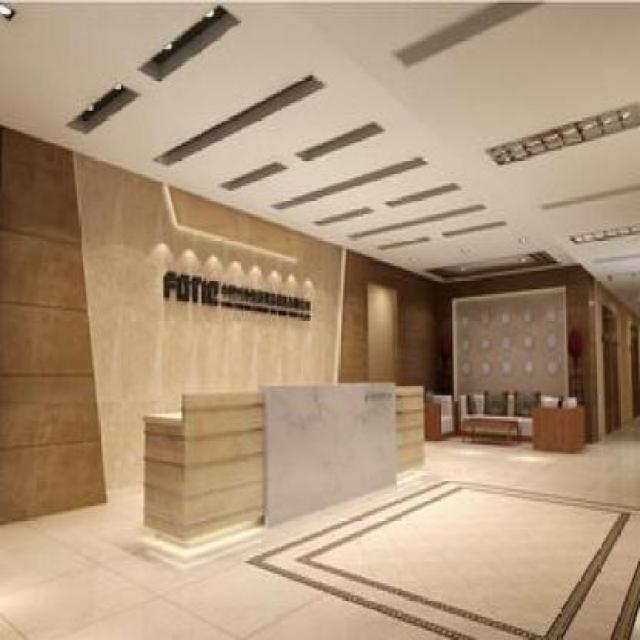frontdesk: (134, 368, 431, 560)
